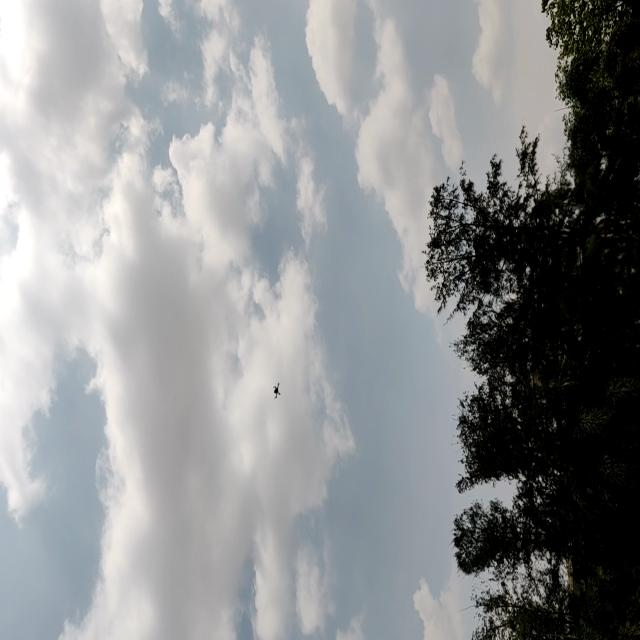drone: (268, 374, 284, 404)
